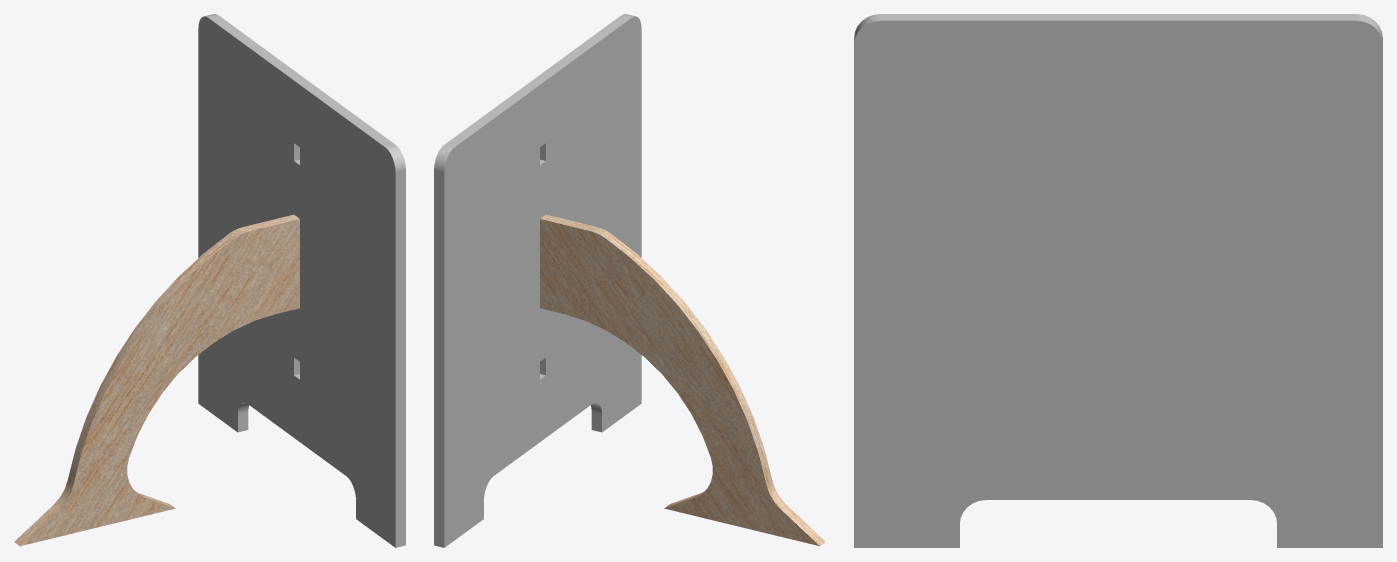
The model's file is Abbiegeschild_rechts.dae.
3 views of the same model, side by side, from view 1: azimuth 30°, elevation 25°; view 2: azimuth 150°, elevation 25°; view 3: azimuth 270°, elevation 25° (orthographic). The views are drawn at different scales.
Parts seen in each view (by area): view 1: Body3, Body1; view 2: Body3, Body1; view 3: Body3.
Boxes of the visible parts, bbox=[...] form: Body3: bbox=[198, 14, 405, 547]; Body1: bbox=[14, 214, 299, 546]; Body3: bbox=[434, 14, 641, 547]; Body1: bbox=[540, 214, 825, 546]; Body3: bbox=[854, 14, 1382, 547].
Bounding box in the file's own units: 85.05 × 100 × 110.
